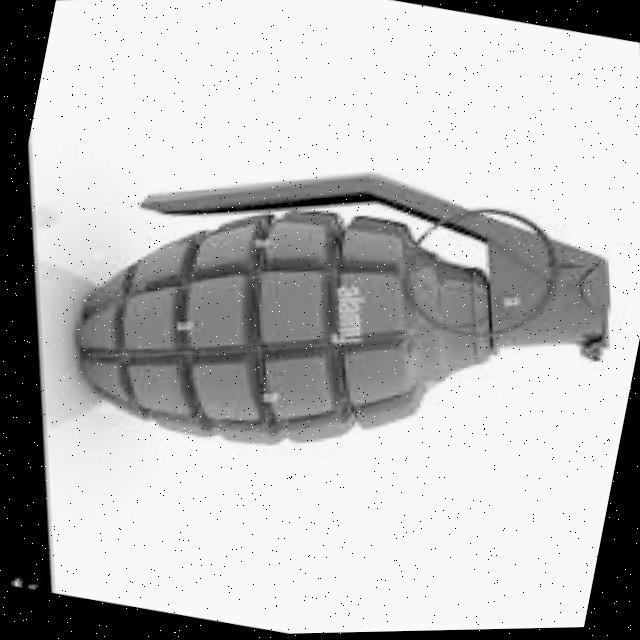grenade: (0, 62, 640, 566)
